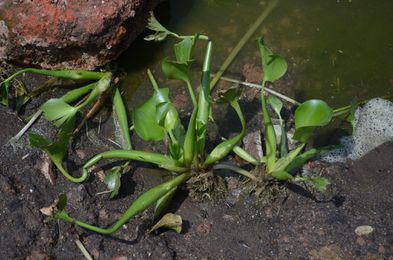water_hyacinth: (0, 19, 349, 234)
